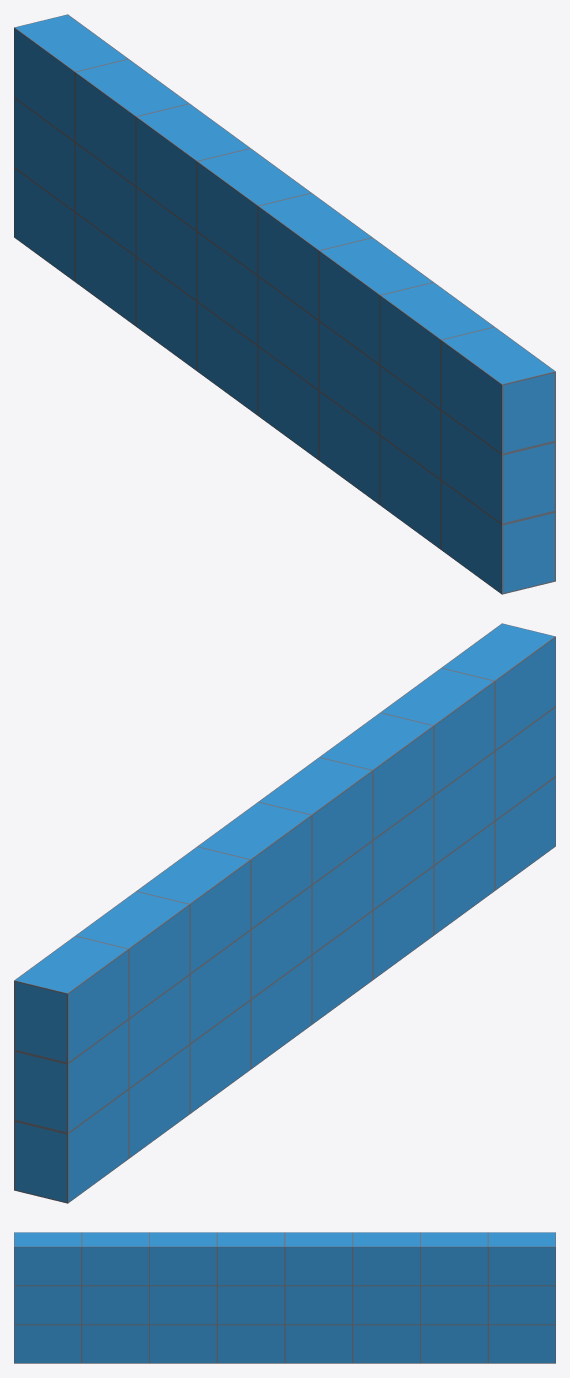
Rendered from zid novi.fbx.
3 renders of one model, top to bottom at view 1: azimuth 30°, elevation 25°; view 2: azimuth 150°, elevation 25°; view 3: azimuth 270°, elevation 25°, orthographic. The views are drawn at different scales.
Parts seen in each view (by area): view 1: Cube.003, Cube.001, Cube.002, Cube.023, Cube.018, Cube.020, Cube.021, Cube.019, Cube.022, Cube.024, Cube.004, Cube.017 (+12 smaller); view 2: Cube.024, Cube.010, Cube.017, Cube.018, Cube.023, Cube.021, Cube.020, Cube.003, Cube.019, Cube.022, Cube.002, Cube.009 (+12 smaller); view 3: Cube.018, Cube.019, Cube.022, Cube.023, Cube.003, Cube.020, Cube.021, Cube.024, Cube.005, Cube.009, Cube.004, Cube.008 (+12 smaller).
Boxes of the visible parts, left/top/right/bottom form: Cube.003: left=441, top=327, right=555, bottom=454; Cube.001: left=441, top=480, right=555, bottom=594; Cube.002: left=441, top=410, right=555, bottom=524; Cube.023: left=75, top=59, right=189, bottom=186; Cube.018: left=380, top=282, right=494, bottom=409; Cube.020: left=258, top=193, right=372, bottom=320; Cube.021: left=197, top=148, right=311, bottom=275; Cube.019: left=319, top=237, right=433, bottom=364; Cube.022: left=136, top=103, right=250, bottom=230; Cube.024: left=14, top=14, right=128, bottom=141; Cube.004: left=380, top=435, right=440, bottom=549; Cube.017: left=14, top=97, right=74, bottom=211; Cube.024: left=14, top=936, right=128, bottom=1063; Cube.010: left=14, top=1089, right=128, bottom=1203; Cube.017: left=14, top=1019, right=128, bottom=1133; Cube.018: left=380, top=668, right=494, bottom=795; Cube.023: left=75, top=891, right=189, bottom=1018; Cube.021: left=197, top=802, right=311, bottom=929; Cube.020: left=258, top=757, right=372, bottom=884; Cube.003: left=441, top=623, right=555, bottom=750; Cube.019: left=319, top=712, right=433, bottom=839; Cube.022: left=136, top=846, right=250, bottom=973; Cube.002: left=495, top=706, right=555, bottom=820; Cube.009: left=129, top=1044, right=189, bottom=1158; Cube.018: left=81, top=1232, right=149, bottom=1285; Cube.019: left=149, top=1232, right=217, bottom=1285; Cube.022: left=352, top=1232, right=420, bottom=1285; Cube.023: left=420, top=1232, right=488, bottom=1285; Cube.003: left=14, top=1232, right=81, bottom=1285; Cube.020: left=217, top=1232, right=284, bottom=1285; Cube.021: left=285, top=1232, right=352, bottom=1285; Cube.024: left=488, top=1232, right=555, bottom=1285; Cube.005: left=149, top=1324, right=217, bottom=1363; Cube.009: left=420, top=1324, right=488, bottom=1363; Cube.004: left=81, top=1324, right=149, bottom=1363; Cube.008: left=352, top=1324, right=420, bottom=1363.
Size of the model in its own units: 102 by 380 by 1600.
